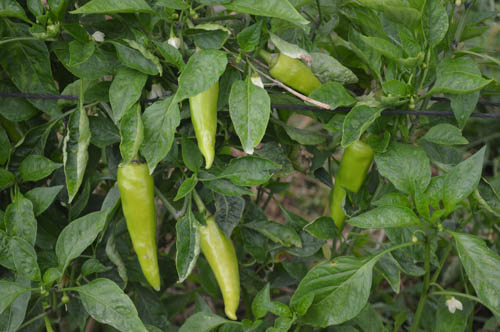ChiliPepper: (119, 164, 169, 286), (202, 224, 244, 318), (332, 143, 372, 227), (187, 85, 218, 172), (273, 57, 323, 99)
